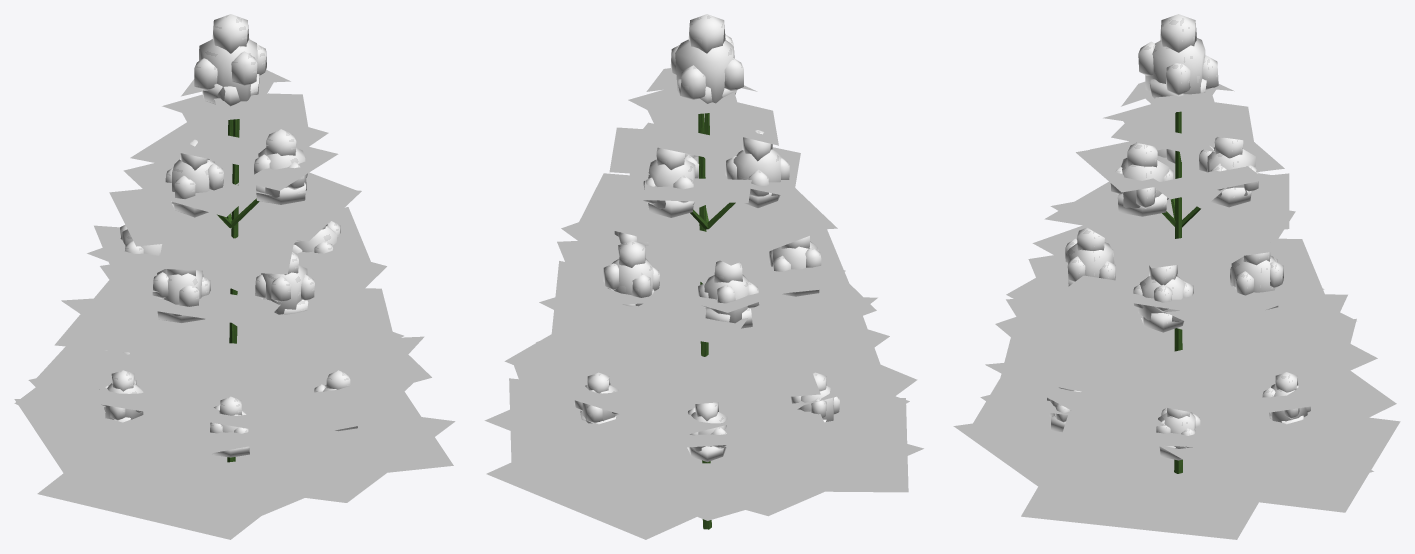
The model's file is tall_3.obj.
3 renders of one model, left to right at view 1: azimuth 30°, elevation 25°; view 2: azimuth 150°, elevation 25°; view 3: azimuth 270°, elevation 25°, orthographic.
Parts seen in each view (by area): view 1: plant; view 2: plant; view 3: plant.
Boxes of the visible parts, x1,y1,x2,y2 form: plant: [14, 14, 455, 539]; plant: [484, 14, 923, 539]; plant: [953, 14, 1400, 539].
Size of the model in its own units: 0.9393 by 1.17 by 0.9239.
